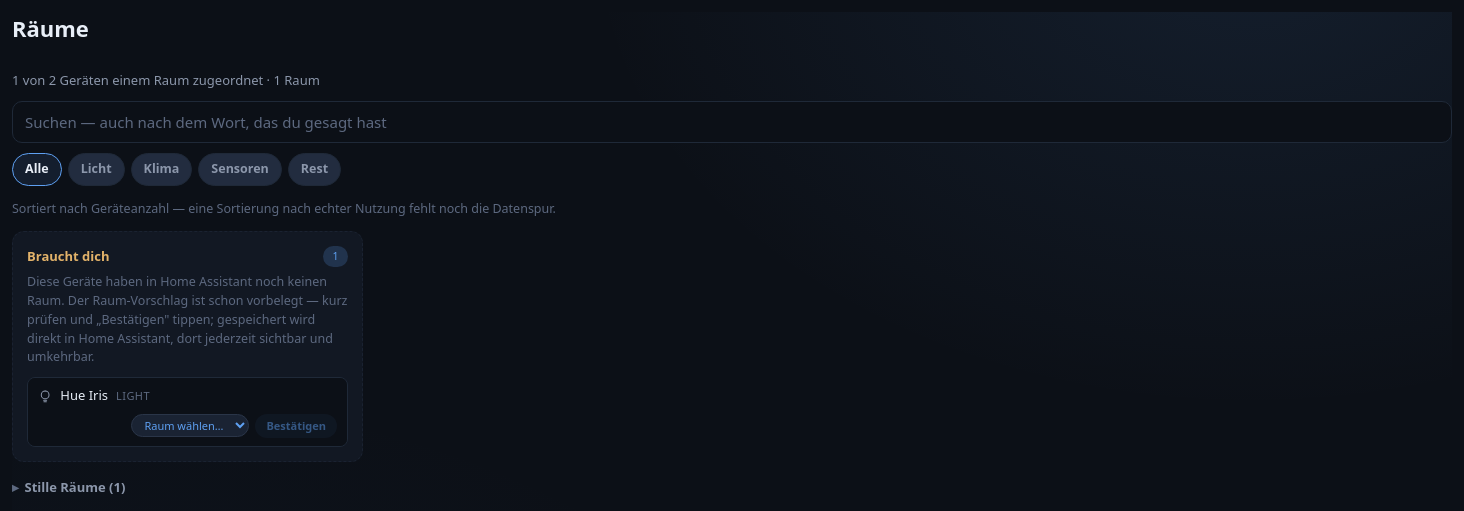
Test: RaeumeViewLive — Zuordnungs-Flow (PUT → Reload → Karte wandert) › Flag an: Raum wählen + Bestätigen ⇒ assign(entityId, areaId) ⇒ Reload ⇒ Gerät wandert in den Raum
Select "Wohnzimmer" in the dropdown with class "inbox__select": x=190, y=426 x1=131 y1=414 x2=249 y2=437
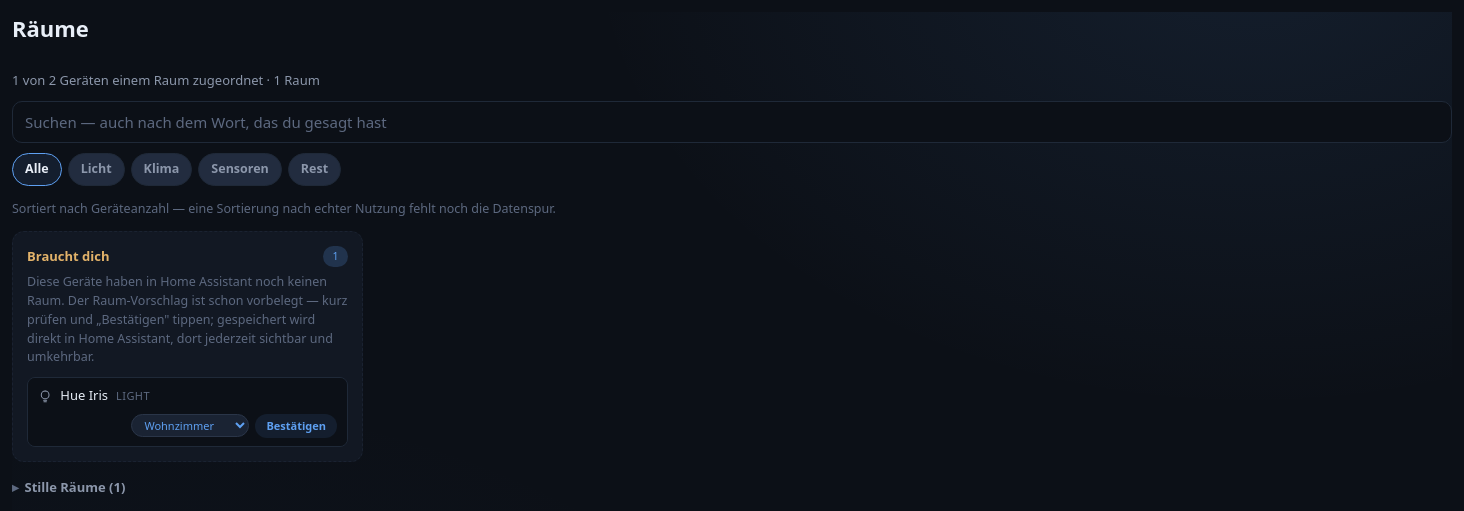
Click the button with class "inbox__confirm": x=296, y=426 x1=255 y1=414 x2=337 y2=438
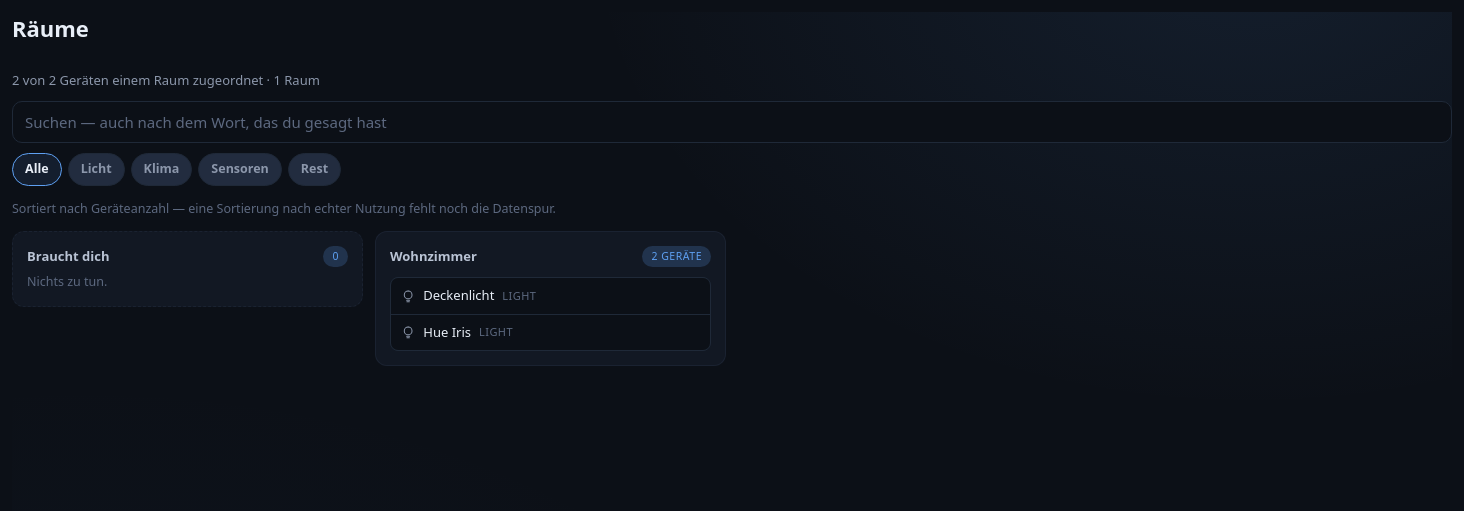
Check: the text "Nichts zu tun." is shown, box x1=27 y1=273 x2=107 y2=290
Check: the dropdown with class "inbox__select" is gone
